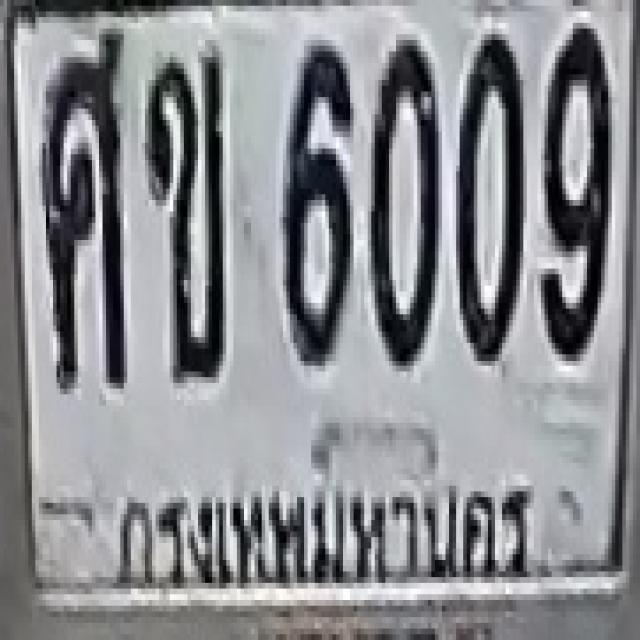0: (368, 34, 438, 366), (454, 29, 522, 360)
6: (281, 43, 352, 363)
9: (541, 20, 608, 357)
A02: (145, 49, 223, 380)
A38: (41, 28, 126, 383), (39, 60, 124, 386), (39, 31, 124, 312)
BKK: (105, 474, 546, 616)
